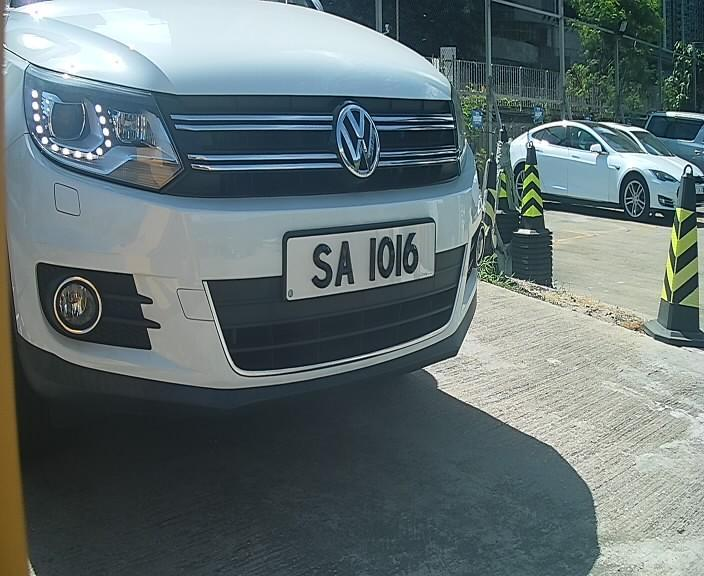privatecar: (2, 5, 510, 424)
